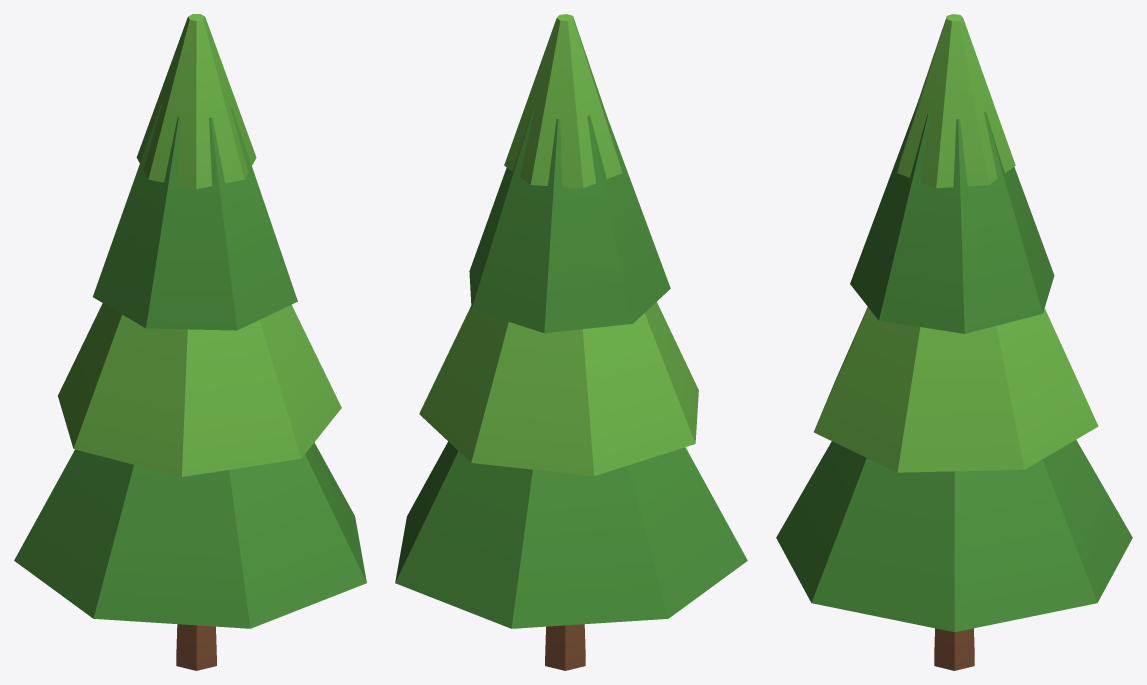
File: tree_pine.glb
The picture shows the model from 3 angles, left to right: view 1: azimuth 30°, elevation 25°; view 2: azimuth 150°, elevation 25°; view 3: azimuth 270°, elevation 25°; orthographic projection.
Visible parts, largest first — view 1: tree_pine; view 2: tree_pine; view 3: tree_pine.
Boxes of the visible parts, x1,y1,x2,y2 form: tree_pine: (14, 14, 366, 670); tree_pine: (395, 14, 747, 670); tree_pine: (776, 14, 1132, 670).
Bounding box in the file's own units: 2.38 × 4.85 × 2.44.
Materials: 1 (1 with a texture image).
